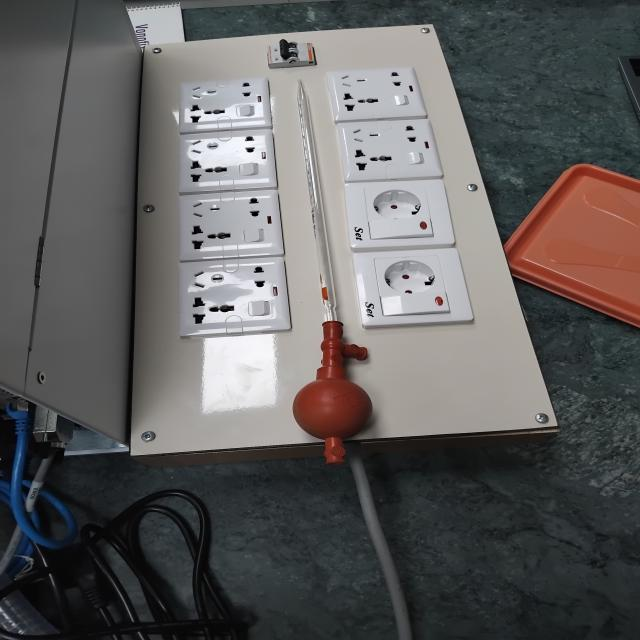Volumetric_Pipet: (234, 44, 422, 482)
